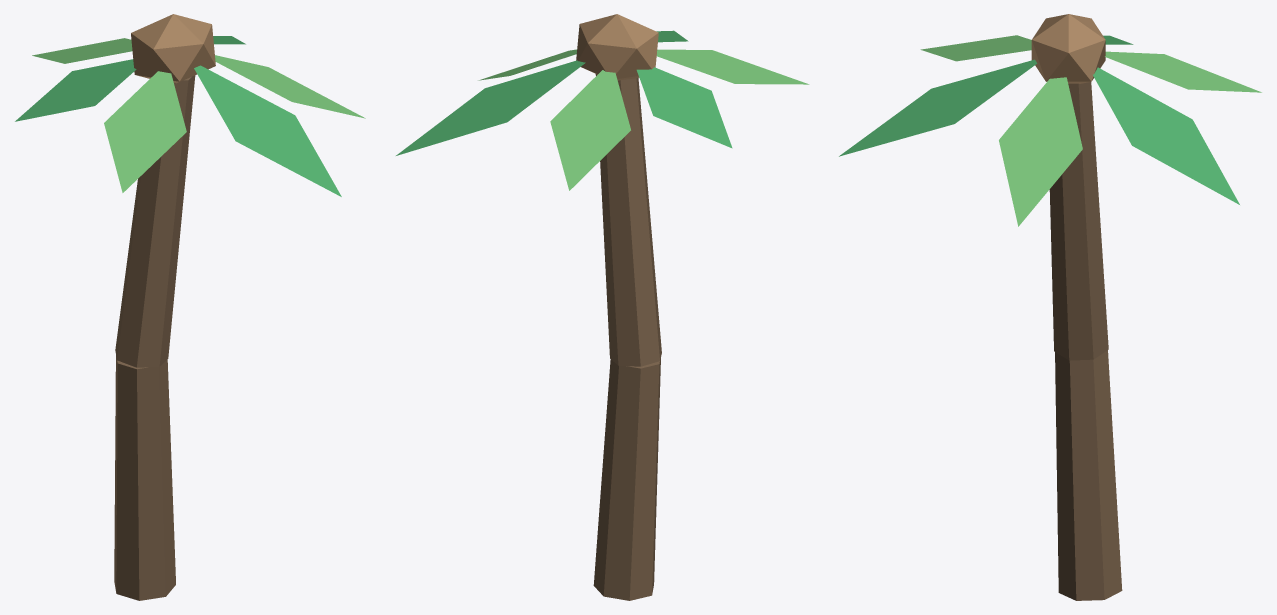
File: palm_tree_03.glb
3 views of the same model, side by side, from view 1: azimuth 30°, elevation 25°; view 2: azimuth 150°, elevation 25°; view 3: azimuth 270°, elevation 25° (orthographic). The views are drawn at different scales.
Visible parts, largest first — view 1: palm_tree_03_trunk_segment_1, palm_tree_03_trunk_segment_2, palm_tree_03_frond_6, palm_tree_03_frond_5, palm_tree_03_crown, palm_tree_03_frond_4, palm_tree_03_frond_1, palm_tree_03_frond_3; view 2: palm_tree_03_trunk_segment_1, palm_tree_03_trunk_segment_2, palm_tree_03_frond_3, palm_tree_03_frond_2, palm_tree_03_crown, palm_tree_03_frond_4, palm_tree_03_frond_5, palm_tree_03_frond_1; view 3: palm_tree_03_trunk_segment_1, palm_tree_03_trunk_segment_2, palm_tree_03_frond_1, palm_tree_03_frond_2, palm_tree_03_frond_6, palm_tree_03_crown, palm_tree_03_frond_3, palm_tree_03_frond_5.
Part boxes in pixels (box(x1,y1,x2,y2)): palm_tree_03_trunk_segment_1: box(114, 355, 175, 600); palm_tree_03_trunk_segment_2: box(115, 75, 195, 367); palm_tree_03_frond_6: box(194, 65, 341, 196); palm_tree_03_frond_5: box(104, 71, 186, 192); palm_tree_03_crown: box(131, 14, 215, 83); palm_tree_03_frond_4: box(15, 59, 136, 121); palm_tree_03_frond_1: box(215, 55, 365, 118); palm_tree_03_frond_3: box(32, 38, 132, 63); palm_tree_03_trunk_segment_1: box(593, 358, 660, 600); palm_tree_03_trunk_segment_2: box(595, 74, 661, 366); palm_tree_03_frond_3: box(550, 70, 630, 190); palm_tree_03_frond_2: box(396, 60, 585, 155); palm_tree_03_crown: box(576, 14, 658, 80); palm_tree_03_frond_4: box(636, 67, 732, 148); palm_tree_03_frond_5: box(656, 49, 809, 84); palm_tree_03_frond_1: box(478, 49, 576, 80); palm_tree_03_trunk_segment_1: box(1055, 350, 1122, 600); palm_tree_03_trunk_segment_2: box(1049, 82, 1108, 360); palm_tree_03_frond_1: box(999, 77, 1082, 226); palm_tree_03_frond_2: box(1093, 67, 1239, 204); palm_tree_03_frond_6: box(839, 59, 1037, 156); palm_tree_03_crown: box(1031, 14, 1105, 83); palm_tree_03_frond_3: box(1105, 51, 1261, 92); palm_tree_03_frond_5: box(920, 35, 1031, 61).
Bounding box in the file's own units: 1.99 × 3.57 × 2.35.
